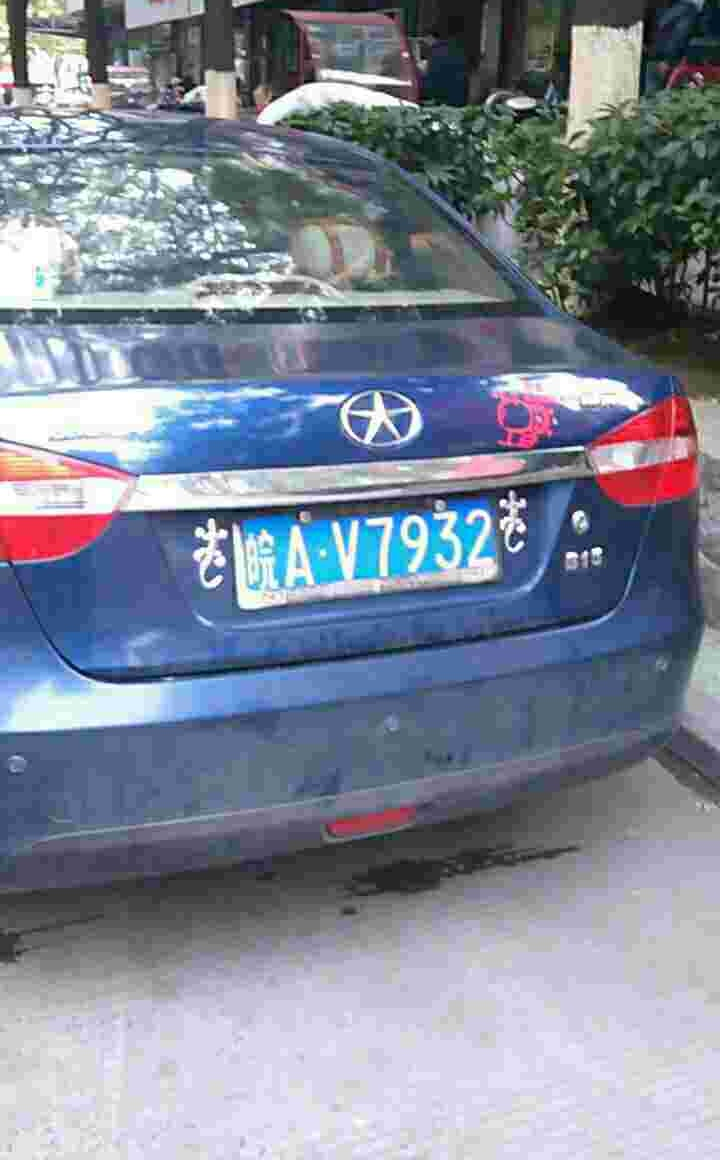license_plate: (201, 499, 528, 594)
